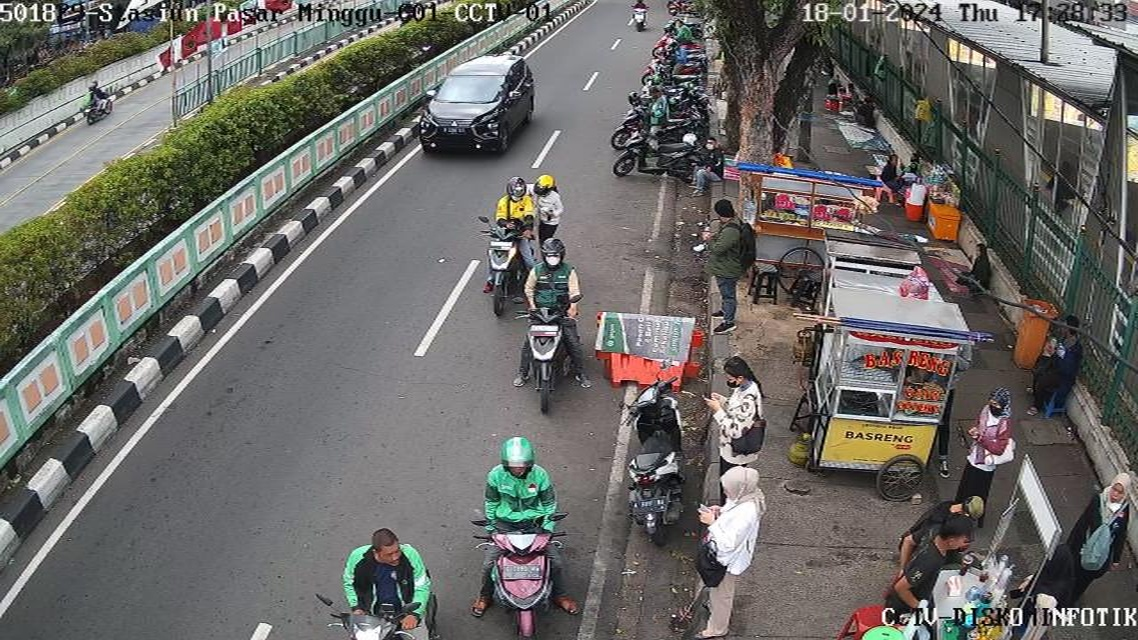Gerobak: (797, 281, 960, 505), (743, 159, 866, 276)
